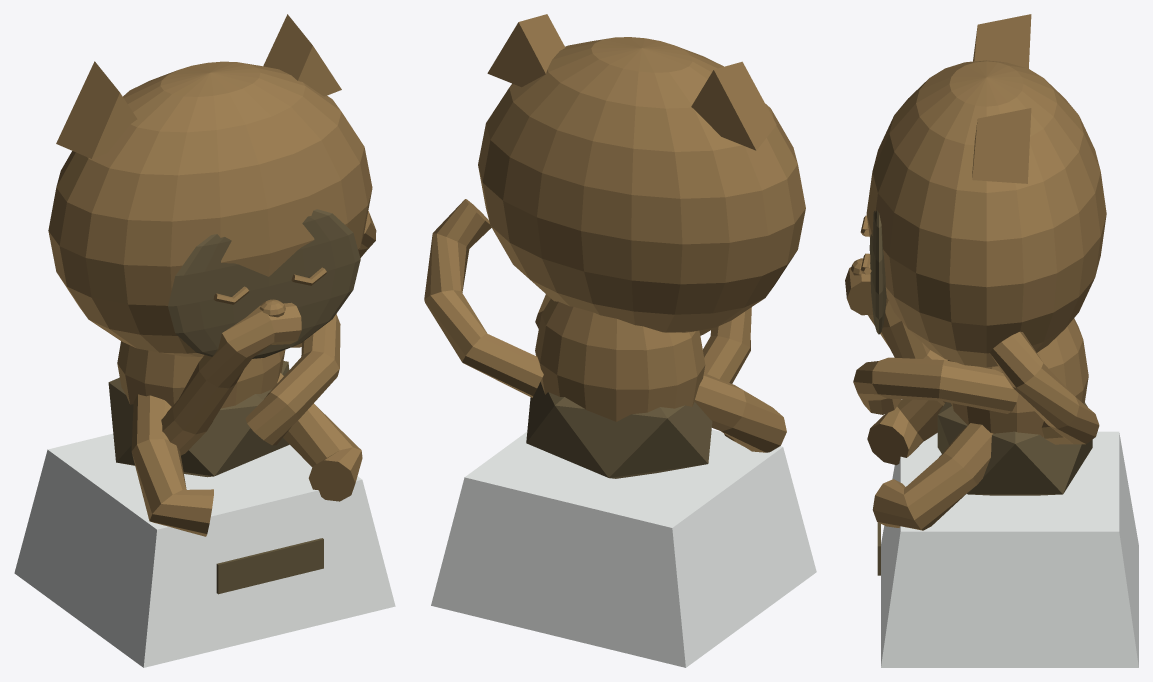
The model's file is gh_thinktocat_v01.glb.
3 views of the same model, side by side, from view 1: azimuth 30°, elevation 25°; view 2: azimuth 150°, elevation 25°; view 3: azimuth 270°, elevation 25° (orthographic).
Visible parts, largest first — view 1: Original low-poly reflective bronze Octocat monument; view 2: Original low-poly reflective bronze Octocat monument; view 3: Original low-poly reflective bronze Octocat monument.
Boxes of the visible parts, box(x1,y1,x2,y2) form: Original low-poly reflective bronze Octocat monument: box(14, 14, 395, 667); Original low-poly reflective bronze Octocat monument: box(424, 14, 816, 667); Original low-poly reflective bronze Octocat monument: box(845, 14, 1138, 667).
Size of the model in its own units: 2.16 by 3.35 by 1.64.
1 material, 1 textured.
